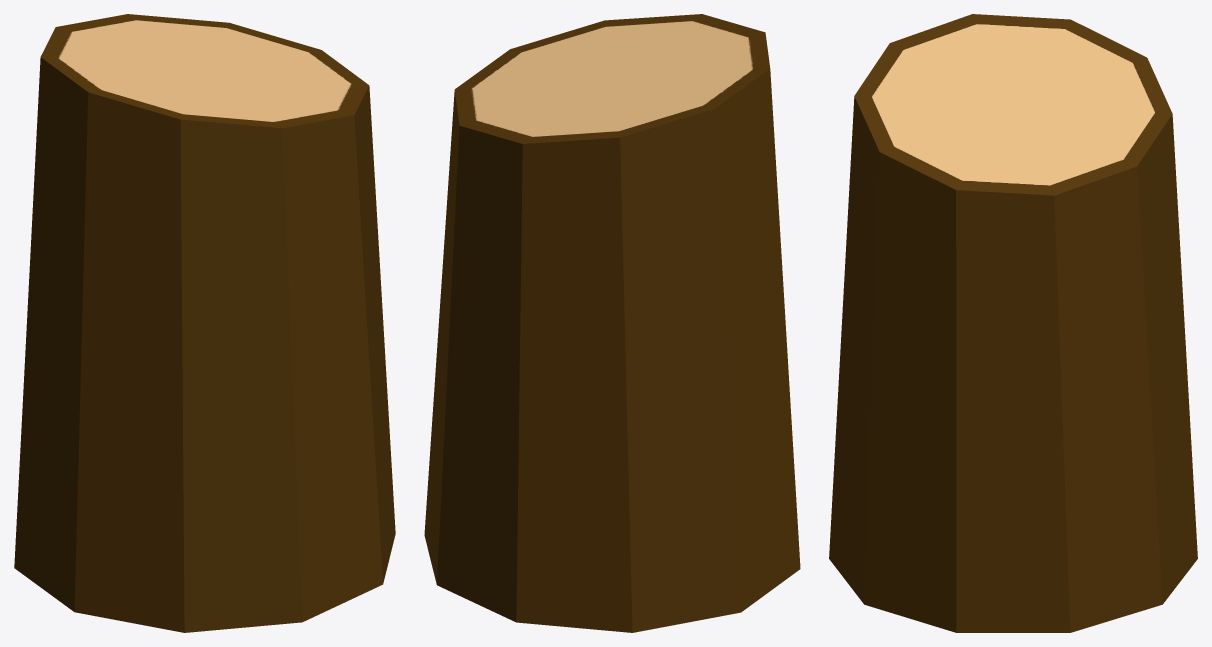
The model's file is Big_Tree_Stamp (3).fbx.
The picture shows the model from 3 angles, left to right: view 1: azimuth 30°, elevation 25°; view 2: azimuth 150°, elevation 25°; view 3: azimuth 270°, elevation 25°; orthographic projection. The views are drawn at different scales.
Parts seen in each view (by area): view 1: Cylinder; view 2: Cylinder; view 3: Cylinder.
Boxes of the visible parts, left/top/right/bottom form: Cylinder: left=14, top=14, right=395, bottom=632; Cylinder: left=424, top=14, right=800, bottom=632; Cylinder: left=829, top=14, right=1197, bottom=632.
Bounding box in the file's own units: 73.98 × 112 × 77.79.
1 material, 1 textured.
